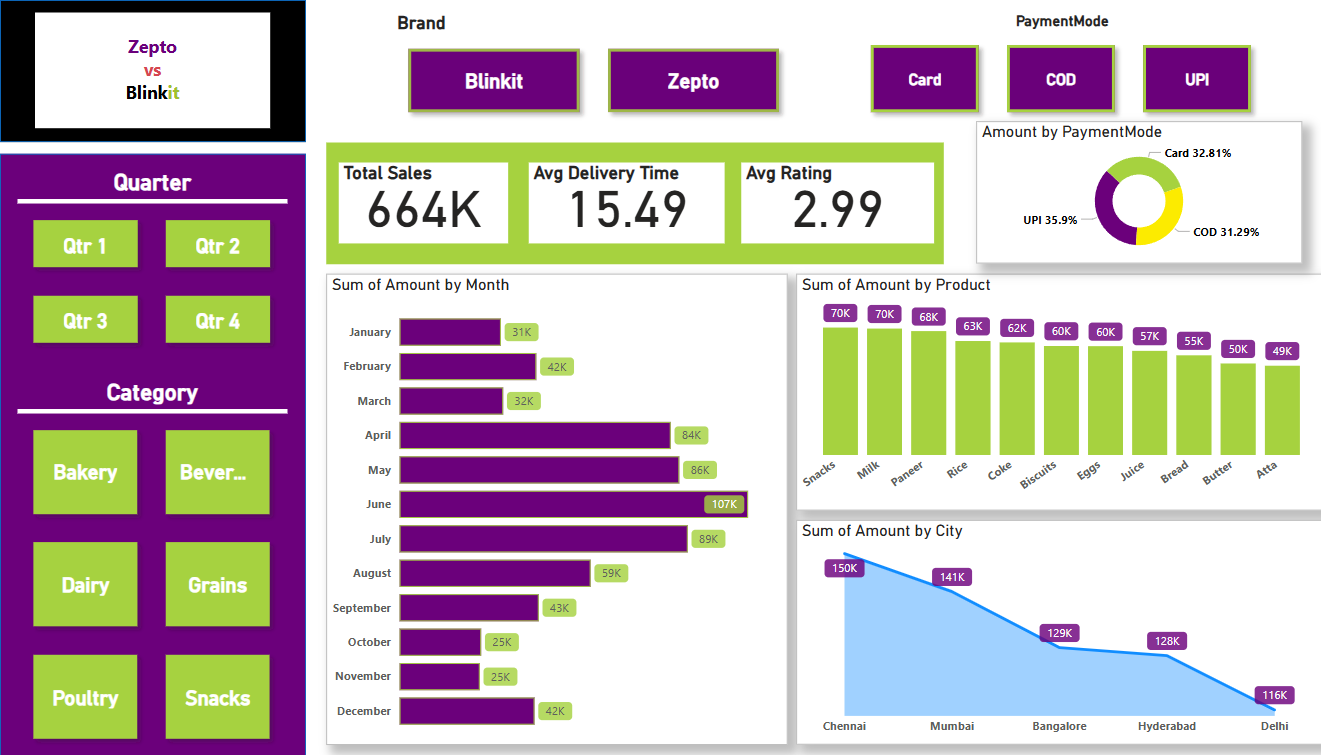

The page's visual inventory and layout, read from the dashboard file:
{"tool":"powerbi","page":{"name":"Page 1","canvas":[1400,800],"ordinal":0},"visuals":[{"type":"shape","box":[0,162.6,323.6,638],"z":0},{"type":"shape","box":[0,0,323.6,150.3],"z":1000},{"type":"textbox","box":[36.8,13.8,248.5,122.7],"z":2000},{"type":"advancedSlicerVisual","fields":{"Values":["Table2.Brand"]},"box":[415.6,13.8,426.4,122.7],"z":3000},{"type":"advancedSlicerVisual","fields":{"Values":["Table2.PaymentMode"]},"box":[904.9,13.8,438.7,122.7],"z":3001},{"type":"advancedSlicerVisual","title":"Quarter","fields":{"Values":["Table2.Date.Variation.Date Hierarchy.Quarter"]},"box":[18.4,177.9,285.3,202.5],"z":3002},{"type":"advancedSlicerVisual","title":"Category","fields":{"Values":["Table2.Category"]},"box":[18.4,400.3,285.3,400.3],"z":3003},{"type":"shape","box":[345.1,150.3,653.4,128.8],"z":3004},{"type":"card","title":"Total Sales","fields":{"Values":["Sum(Table2.Amount)"]},"box":[358.9,171.8,179.4,85.9],"z":3005},{"type":"card","title":"Avg Delivery Time","fields":{"Values":["Avg(Table2.DeliveryTime(min))"]},"box":[559.8,171.8,207.1,85.9],"z":3006},{"type":"card","title":"Avg Rating","fields":{"Values":["Avg(Table2.Rating)"]},"box":[783.7,171.8,204,85.9],"z":3007},{"type":"barChart","fields":{"Category":["Table2.Date.Variation.Date Hierarchy.Month"],"Y":["Sum(Table2.Amount)"]},"box":[345.1,289.9,487.7,498.5],"z":3008},{"type":"columnChart","fields":{"Category":["Table2.Product"],"Y":["Sum(Table2.Amount)"]},"box":[842,289.9,558.3,250],"z":3009},{"type":"areaChart","fields":{"Category":["Table2.City"],"Y":["Sum(Table2.Amount)"]},"box":[842,550.6,558.3,237.7],"z":3010},{"type":"donutChart","title":"Amount by PaymentMode","fields":{"Category":["Table2.PaymentMode"],"Y":["Sum(Table2.Amount)"]},"box":[1032.2,128.8,345.1,150.3],"z":3011}]}

Visuals, with their boxes in screenshot pixels (x1, y1, x2, y2), scaled from the page's 1400x800 canvas onto the 1321x755 screenshot:
shape: Rect(0, 153, 305, 754)
shape: Rect(0, 0, 305, 142)
textbox: Rect(35, 13, 269, 129)
advancedSlicerVisual - Table2.Brand: Rect(392, 13, 794, 129)
advancedSlicerVisual - Table2.PaymentMode: Rect(854, 13, 1268, 129)
"Quarter" advancedSlicerVisual: Rect(17, 168, 287, 359)
"Category" advancedSlicerVisual: Rect(17, 378, 287, 754)
shape: Rect(326, 142, 942, 263)
"Total Sales" card: Rect(339, 162, 508, 243)
"Avg Delivery Time" card: Rect(528, 162, 724, 243)
"Avg Rating" card: Rect(739, 162, 932, 243)
barChart - Table2.Date.Variation.Date Hierarchy.Month x Sum(Table2.Amount): Rect(326, 274, 786, 744)
columnChart - Table2.Product x Sum(Table2.Amount): Rect(794, 274, 1320, 510)
areaChart - Table2.City x Sum(Table2.Amount): Rect(794, 520, 1320, 744)
"Amount by PaymentMode" donutChart: Rect(974, 122, 1300, 263)
